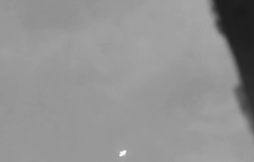Target: (120, 150, 127, 156)
